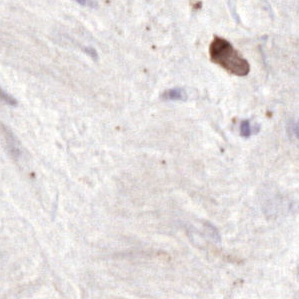Lymphocyte: (210, 36, 252, 78)
